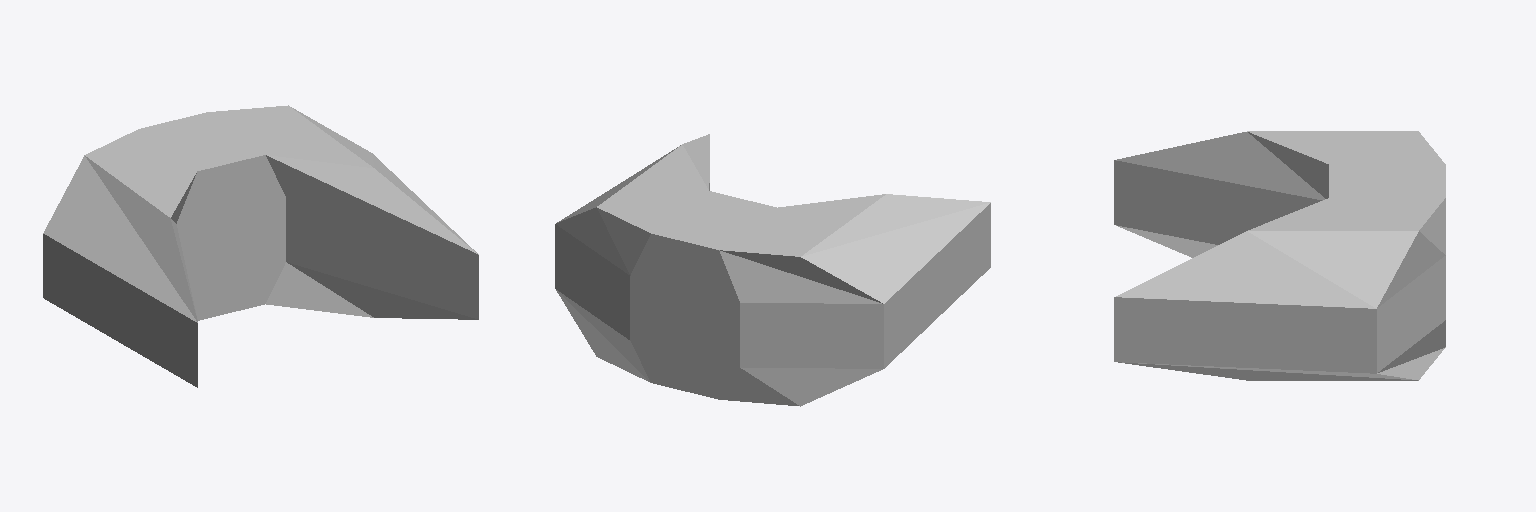
The model's file is WhalePart3.obj.
The picture shows the model from 3 angles: view 1: azimuth 30°, elevation 25°; view 2: azimuth 150°, elevation 25°; view 3: azimuth 270°, elevation 25°; orthographic projection.
Parts seen in each view (by area): view 1: Part3; view 2: Part3; view 3: Part3.
Part boxes in pixels (x1,y1,x2,y2): Part3: (43, 105, 478, 387); Part3: (555, 134, 990, 406); Part3: (1114, 131, 1445, 380).
Bounding box in the file's own units: 3.23 × 1.4 × 2.81.